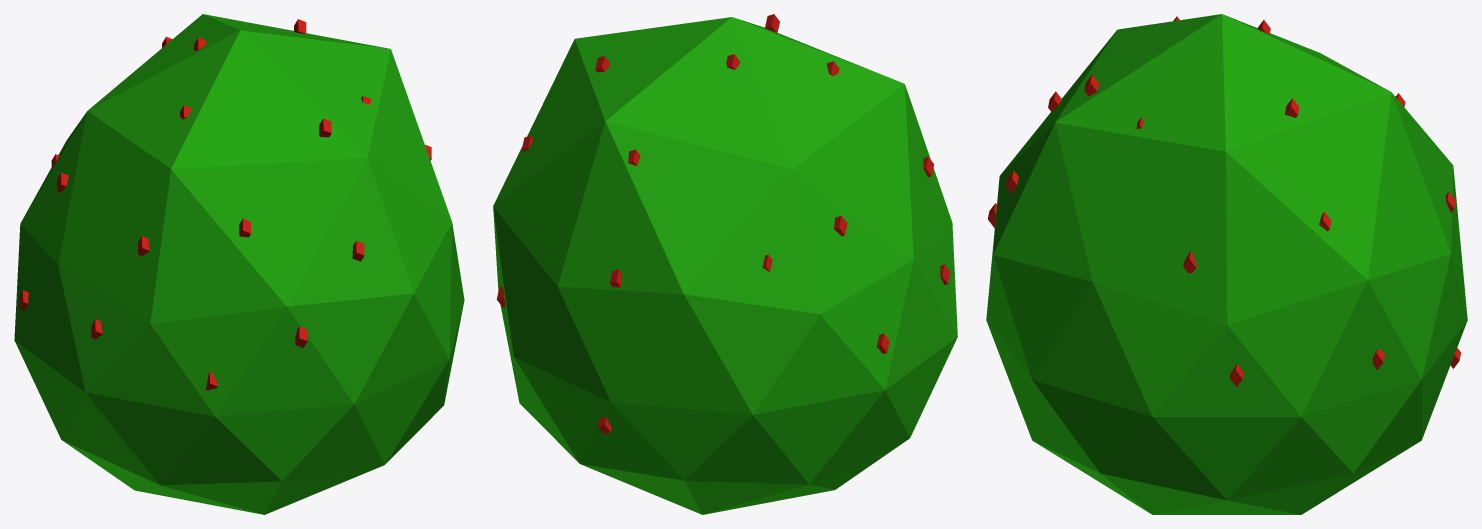
Rendered from Bush_5.fbx.
The picture shows the model from 3 angles, left to right: view 1: azimuth 30°, elevation 25°; view 2: azimuth 150°, elevation 25°; view 3: azimuth 270°, elevation 25°; orthographic projection. The views are drawn at different scales.
Visible parts, largest first — view 1: Bush5_mesh; view 2: Bush5_mesh; view 3: Bush5_mesh.
Boxes of the visible parts, x1,y1,x2,y2 form: Bush5_mesh: (14,14,464,514); Bush5_mesh: (493,14,957,514); Bush5_mesh: (986,14,1467,514).
Bounding box in the file's own units: 159 × 181 × 164.
